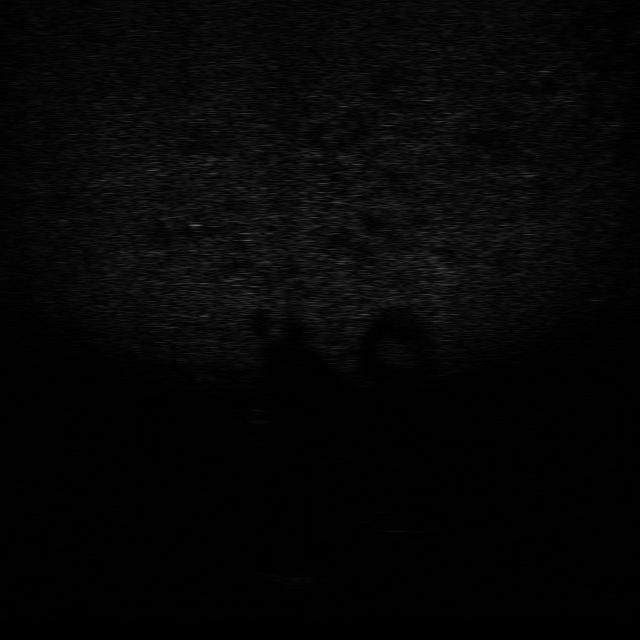ball: (238, 406, 282, 424)
metal bucket: (259, 564, 329, 593)
tyre: (359, 506, 439, 536)
